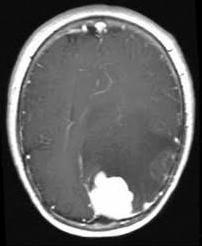Tumour-Meningioma: (74, 156, 147, 223)
